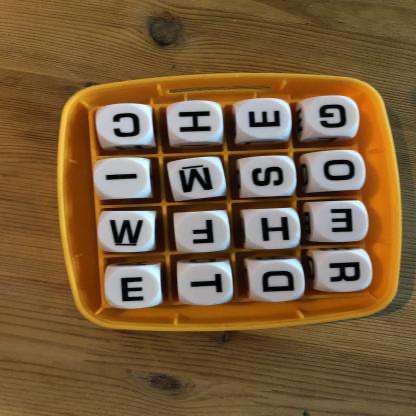c: (98, 106, 152, 145)
d: (248, 260, 303, 302)
e: (105, 268, 160, 309), (237, 99, 292, 139), (314, 202, 367, 242)
f: (175, 213, 230, 252)
g: (306, 97, 358, 136)
h: (168, 102, 223, 143), (245, 210, 299, 249)
i: (94, 159, 149, 198)
m: (171, 158, 223, 197)
o: (310, 151, 365, 190)
r: (316, 252, 370, 293)
s: (241, 157, 295, 196)
t: (179, 264, 233, 305)
w: (99, 212, 153, 253)
